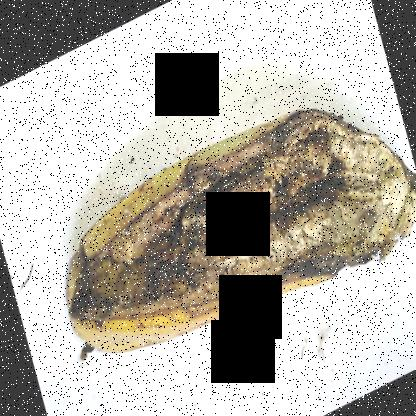rotten: (62, 94, 415, 340)
